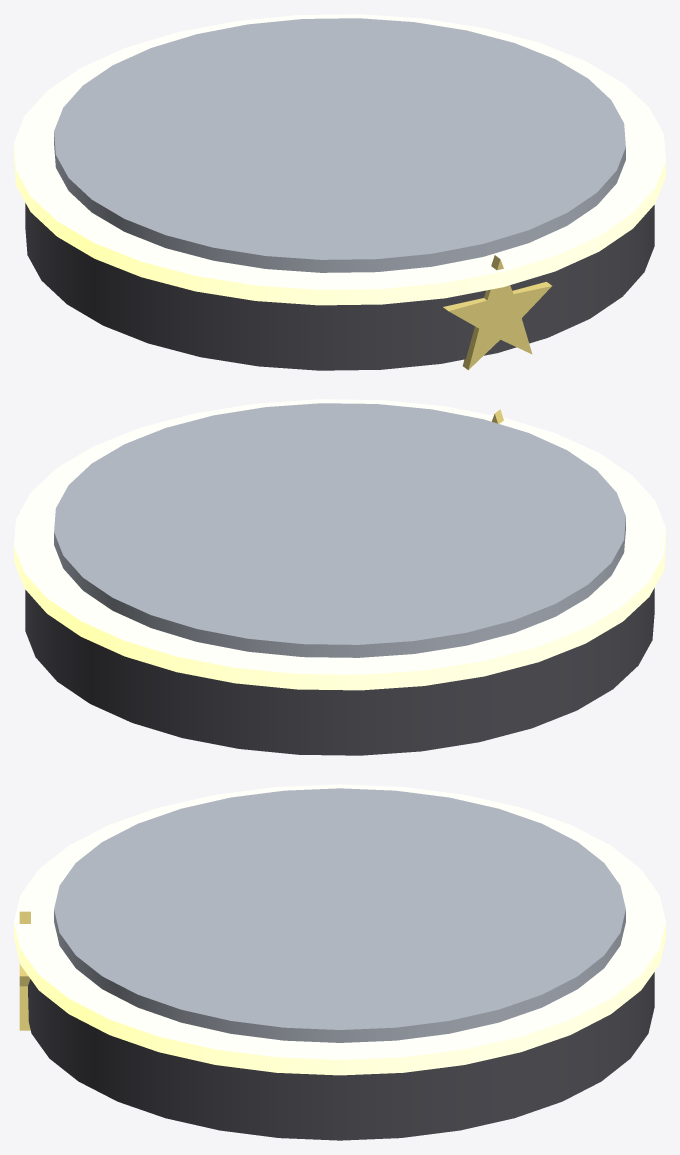
The model's file is pedestal.glb.
3 views of the same model, one above another, from view 1: azimuth 30°, elevation 25°; view 2: azimuth 150°, elevation 25°; view 3: azimuth 270°, elevation 25° (orthographic).
Parts seen in each view (by area): view 1: pedestal; view 2: pedestal; view 3: pedestal.
Boxes of the visible parts, x1,y1,x2,y2 form: pedestal: [14, 14, 665, 370]; pedestal: [14, 399, 665, 755]; pedestal: [14, 784, 665, 1140].
Size of the model in its own units: 2.28 by 0.408 by 2.28.
